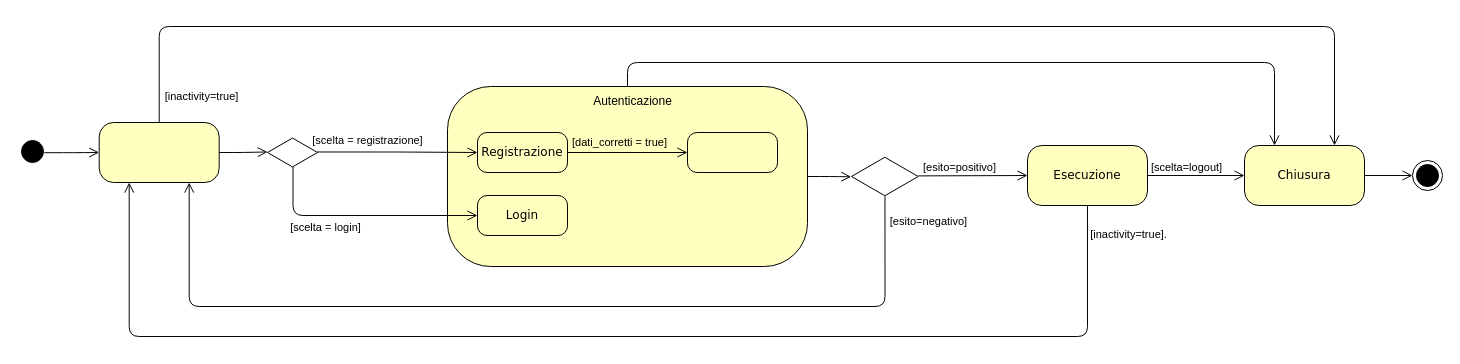
Image size: 1460x364. Some labels were removed from this diagram. The shapes that lost their labels are listed below. From the top down, each one's centre as x and y in pixels, then its label:
At point 158,152: "Visualizzazione".
At point 732,152: "Conferma".
